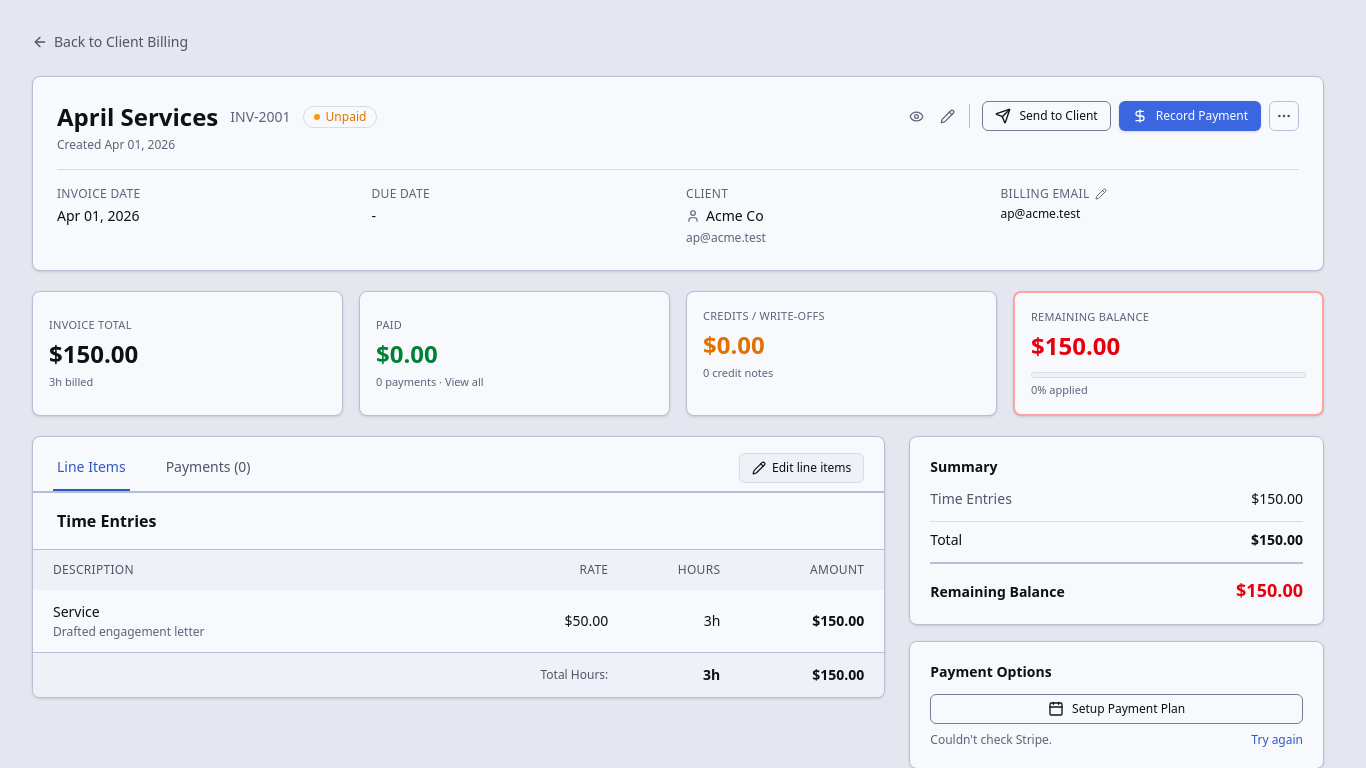
Scenario: a failed Stripe check › says so, never tells the firm to connect, and Try again asks again
Expected: the text "Couldn't check Stripe." is shown, [930, 732, 1052, 748]
Expected: the button "Request Payment via Stripe" is not shown
Click the button "Try again".
click(1277, 740)  # box [1251, 732, 1303, 748]
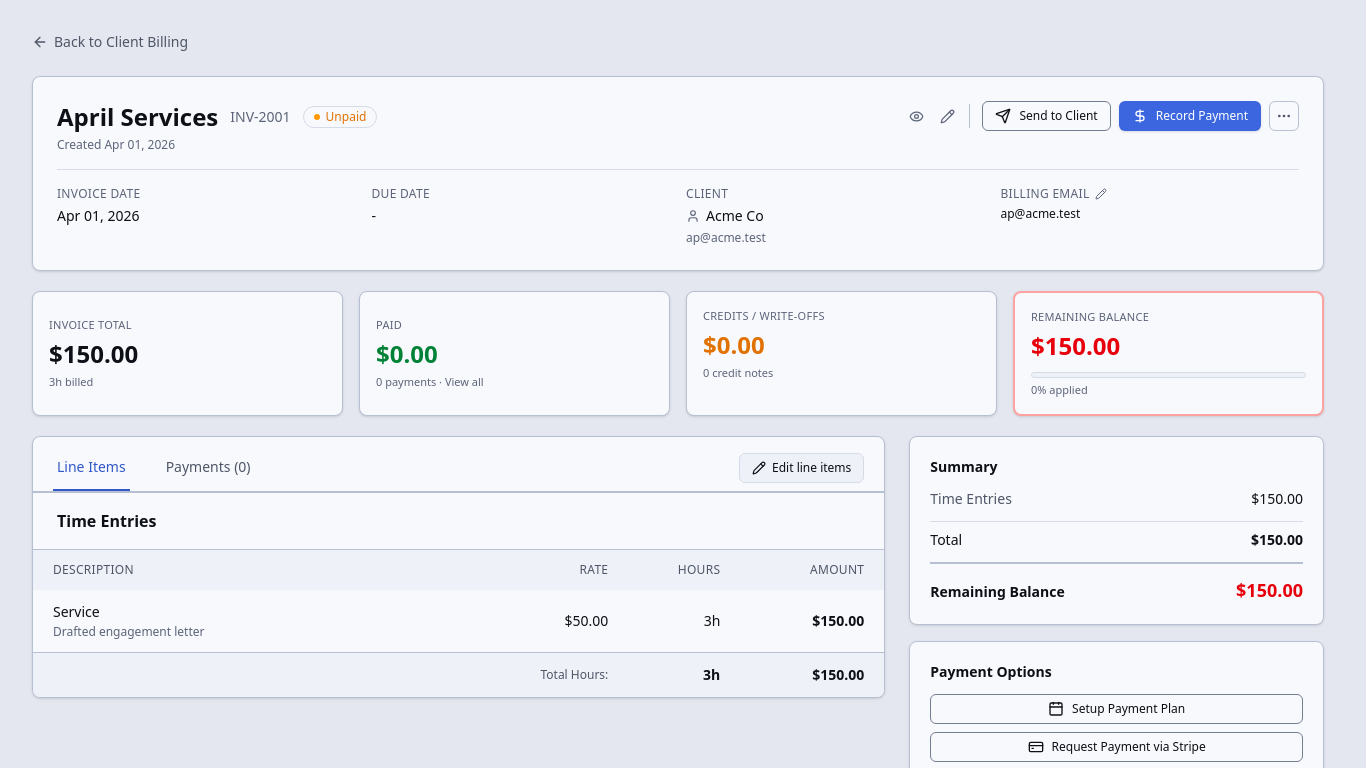
Now the button "Request Payment via Stripe" is shown, box [930, 732, 1303, 762]
Now the text "Couldn't check Stripe." is gone
